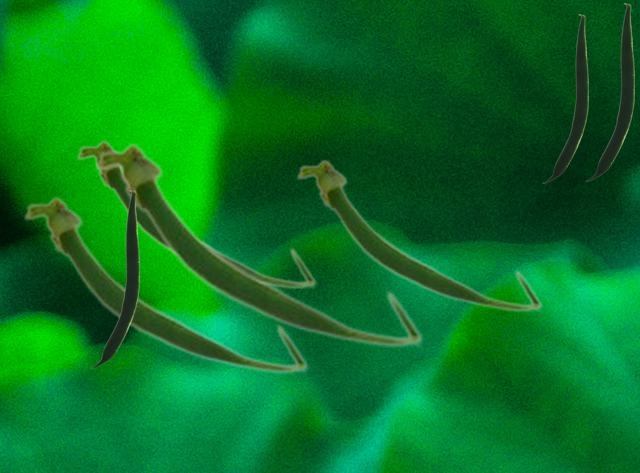french_bean: (93, 140, 423, 348), (22, 194, 308, 374), (295, 157, 542, 312), (75, 138, 316, 289), (585, 3, 633, 180), (90, 190, 138, 367), (542, 14, 587, 182)
